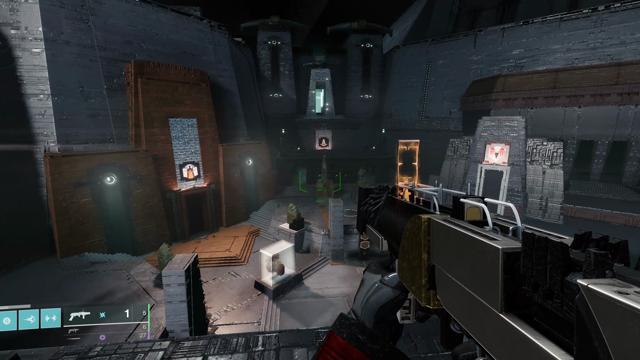enter: (320, 138, 328, 146)
give: (488, 146, 506, 160)
worship: (182, 164, 198, 179)
